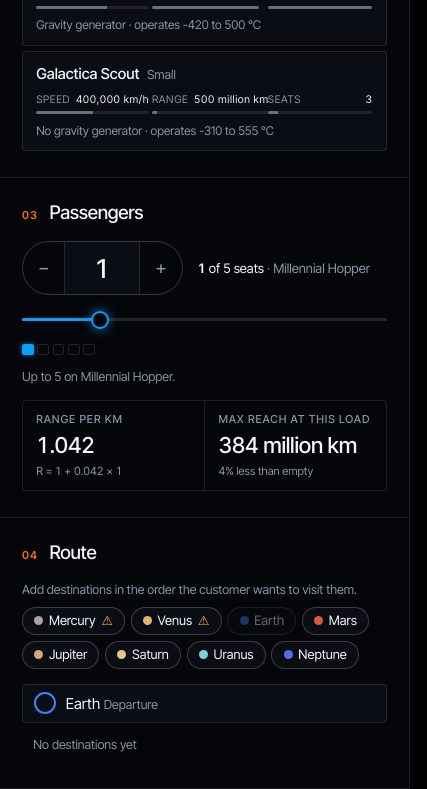
Route builder › shows a planet card on hover
The width and height of the screenshot is (427, 789).
(page scrolled)
Hover over the button with aria-label "Add Jupiter".
mouse_move(61, 655)  # box [22,641,100,669]
(page scrolled)
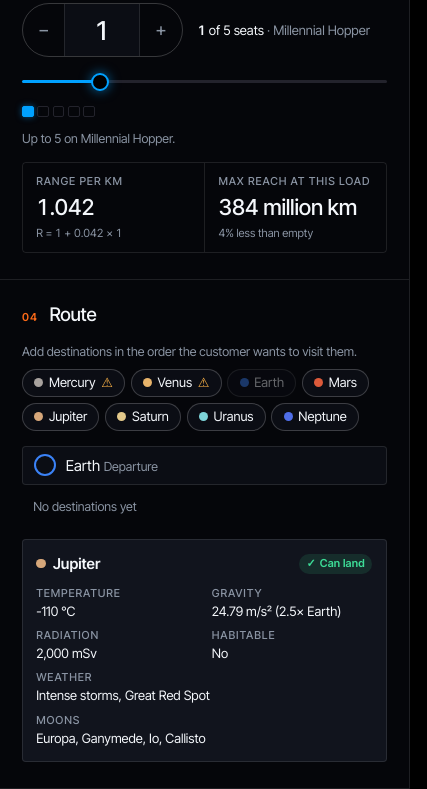
Expected: the text "-110 °C" is shown, [36,603,75,619]
Expected: the text "24.79 m/s² (2.5× Earth)" is shown, [212,603,341,619]
Expected: the text "2,000 mSv" is shown, [36,645,97,661]
